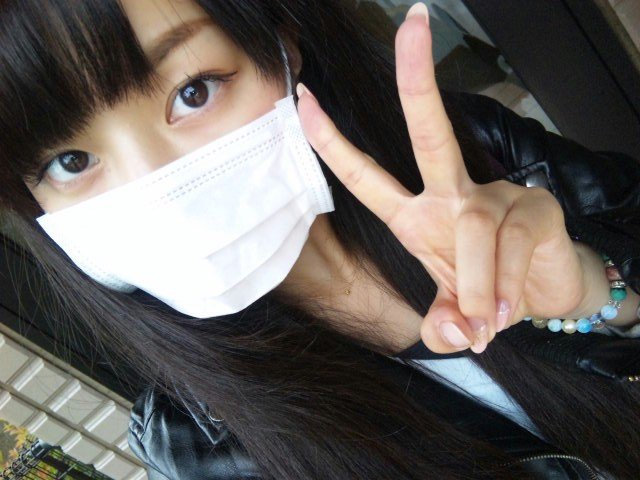face_mask: (20, 1, 297, 323)
